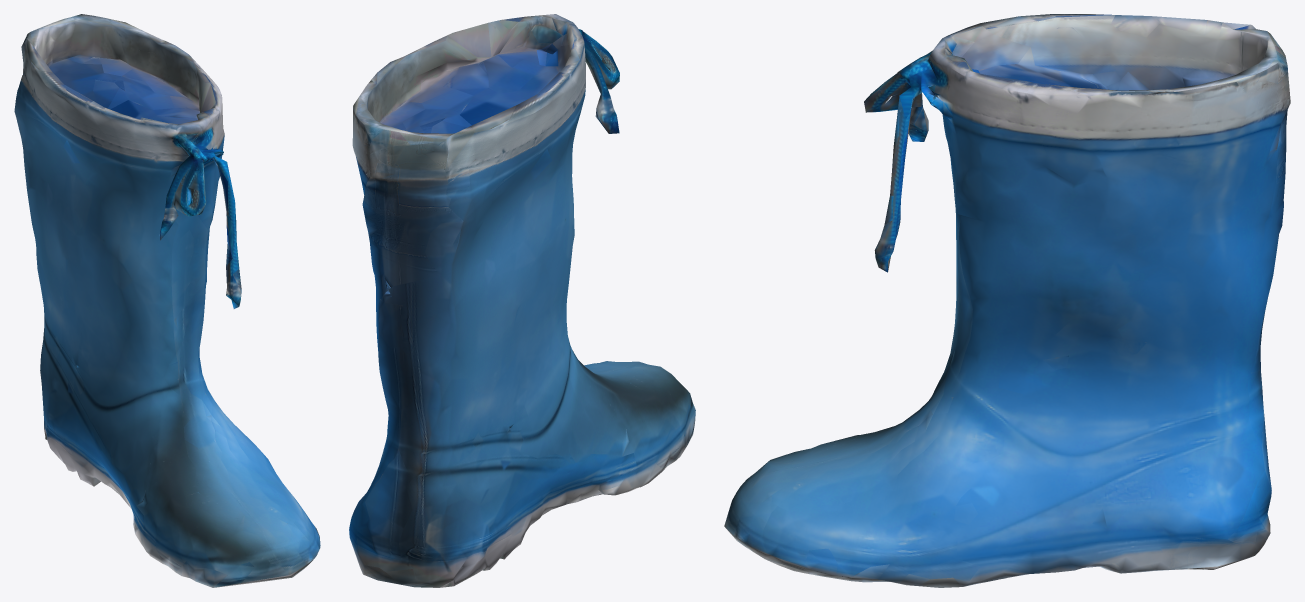
The model's file is blue_rb.fbx.
3 views of the same model, side by side, from view 1: azimuth 30°, elevation 25°; view 2: azimuth 150°, elevation 25°; view 3: azimuth 270°, elevation 25° (orthographic). The views are drawn at different scales.
Visible parts, largest first — view 1: blue_rb3; view 2: blue_rb3; view 3: blue_rb3.
Boxes of the visible parts, x1=… form: blue_rb3: x1=14, y1=14, x2=320, y2=587; blue_rb3: x1=349, y1=14, x2=695, y2=587; blue_rb3: x1=724, y1=14, x2=1290, y2=587.
Size of the model in its own units: 242 by 639 by 663.
1 material, 1 textured.
